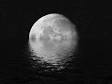moon: (27, 11, 80, 40)
